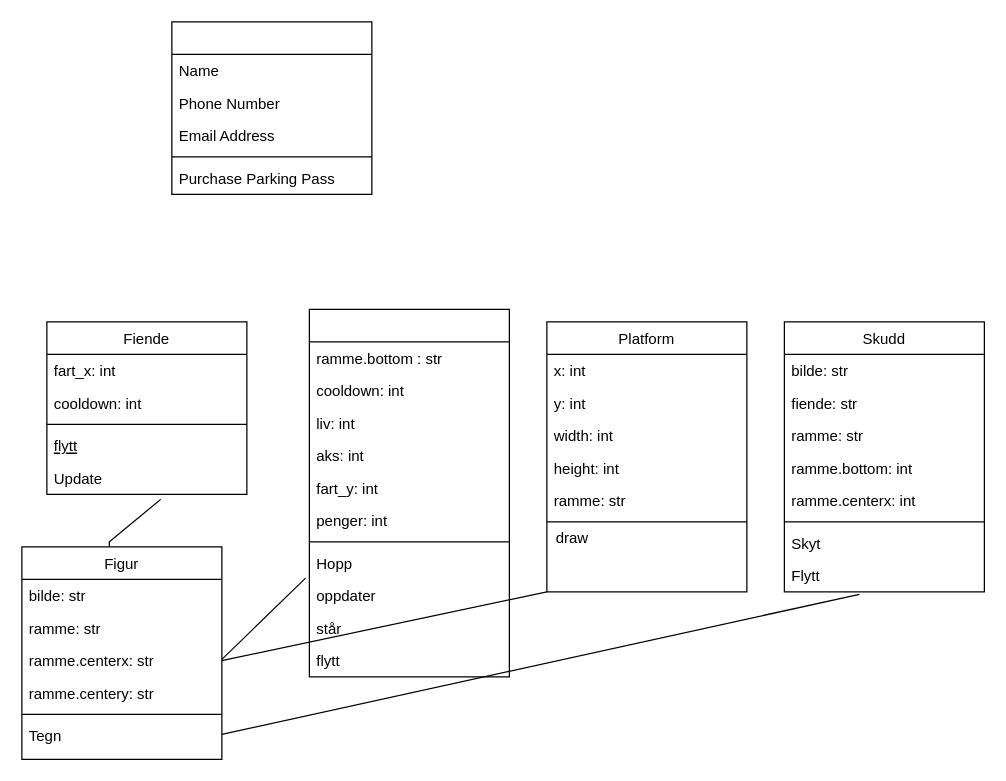
This 1006x781 diagram has some shape labels left out. Here are the shapes that lost their labels. From the top down, the box of each, then its label:
(171, 21, 372, 194): Spill
(308, 308, 509, 677): Spiller
